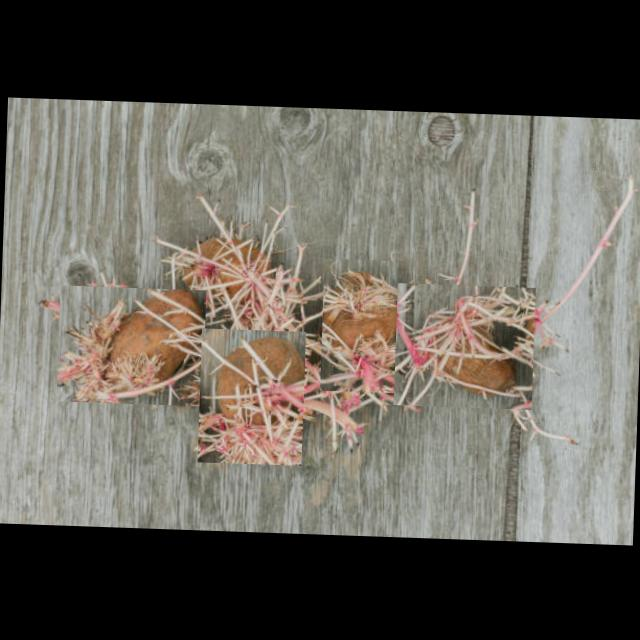Sprouted potato: (56, 284, 206, 405), (393, 282, 535, 408), (197, 326, 306, 464), (319, 257, 406, 392), (177, 238, 280, 320)
